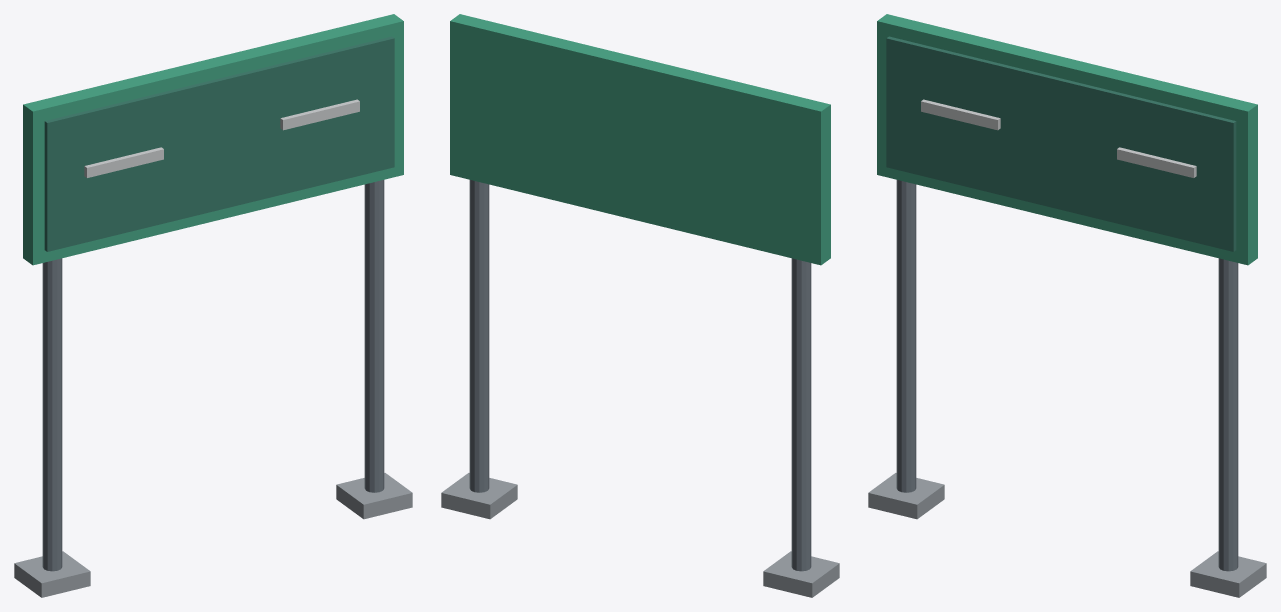
The model's file is highway_sign.glb.
The picture shows the model from 3 angles, left to right: view 1: azimuth 30°, elevation 25°; view 2: azimuth 150°, elevation 25°; view 3: azimuth 330°, elevation 25°; orthographic projection.
Visible parts, largest first — view 1: sign_inner_panel, sign_panel, sign_post_left, sign_post_right, sign_foot_1.15, sign_foot_-1.15, sign_arrow_left, sign_arrow_right; view 2: sign_panel, sign_post_left, sign_post_right, sign_foot_1.15, sign_foot_-1.15; view 3: sign_inner_panel, sign_panel, sign_post_left, sign_post_right, sign_foot_-1.15, sign_foot_1.15, sign_arrow_left, sign_arrow_right.
Part boxes in pixels (x1,y1,x2,y2): sign_inner_panel: [44, 36, 394, 251]; sign_panel: [23, 14, 403, 265]; sign_post_left: [42, 258, 62, 571]; sign_post_right: [364, 180, 384, 492]; sign_foot_1.15: [336, 473, 412, 519]; sign_foot_-1.15: [14, 551, 90, 597]; sign_arrow_left: [84, 147, 163, 177]; sign_arrow_right: [280, 99, 359, 130]; sign_panel: [450, 14, 830, 265]; sign_post_left: [791, 258, 811, 571]; sign_post_right: [469, 180, 489, 492]; sign_foot_1.15: [441, 473, 517, 519]; sign_foot_-1.15: [763, 551, 839, 597]; sign_inner_panel: [886, 36, 1236, 251]; sign_panel: [877, 14, 1257, 265]; sign_post_left: [896, 180, 916, 492]; sign_post_right: [1218, 258, 1238, 571]; sign_foot_-1.15: [868, 473, 944, 519]; sign_foot_1.15: [1190, 551, 1266, 597]; sign_arrow_left: [921, 99, 1000, 130]; sign_arrow_right: [1117, 147, 1196, 177].
Size of the model in its own units: 2.65 by 3.28 by 0.34.
